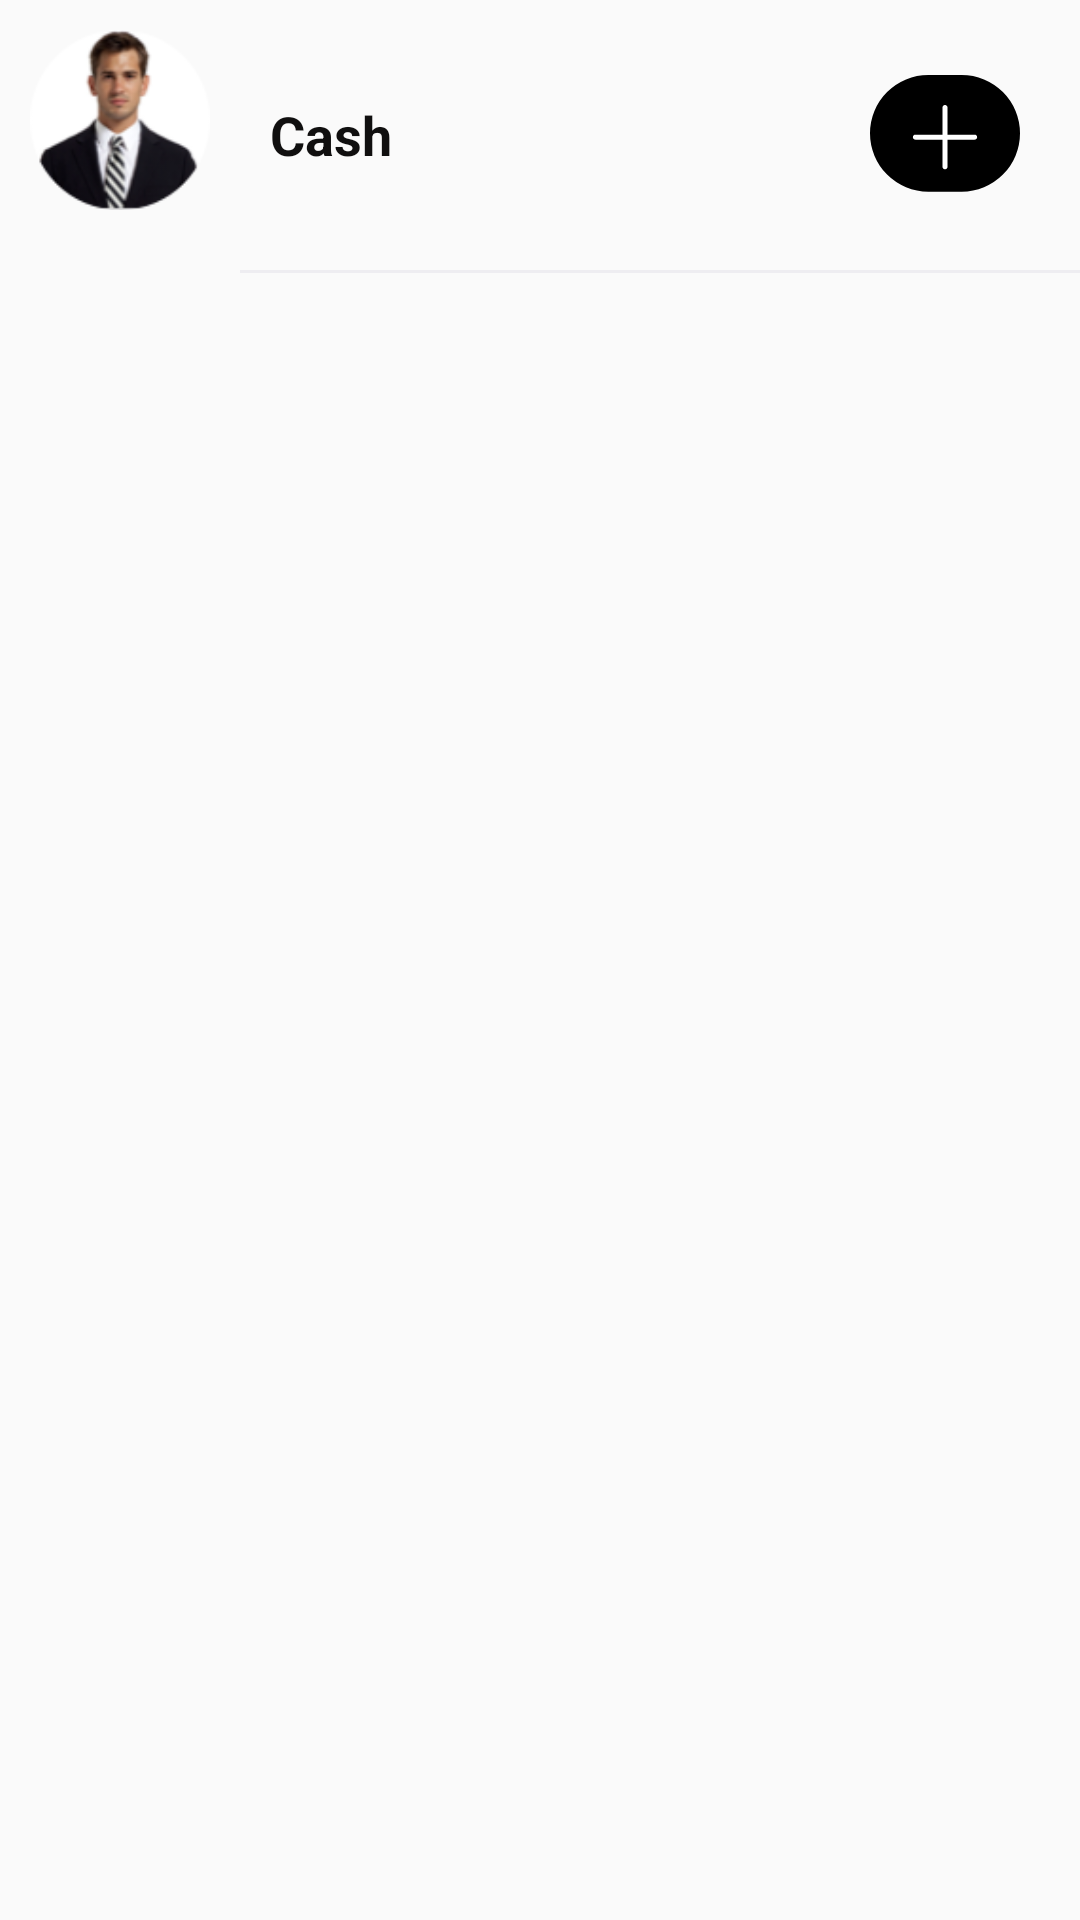

Icon bounding boxes for this 1080 × 1920 phone screenshot, format (x1, y1, x2, y2):
add: (870, 75, 1020, 192)
personimg: (39, 31, 197, 210)
